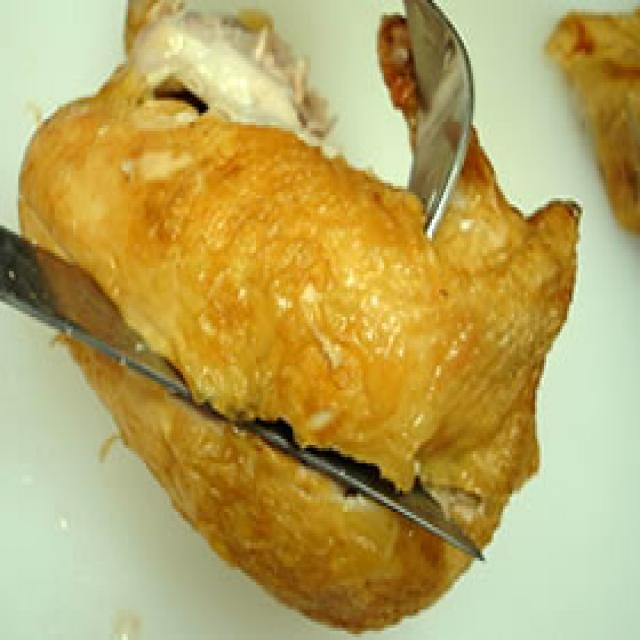Chicken roast: (23, 37, 574, 628)
